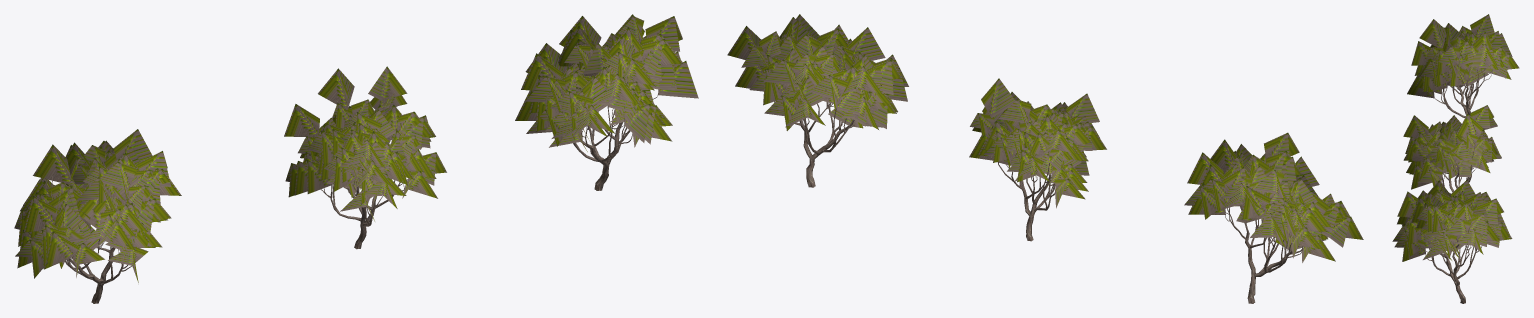
The model's file is Acacias.fbx.
3 views of the same model, side by side, from view 1: azimuth 30°, elevation 25°; view 2: azimuth 150°, elevation 25°; view 3: azimuth 270°, elevation 25° (orthographic). The views are drawn at different scales.
Parts seen in each view (by area): view 1: acacia_01, acacia_03, acacia_02; view 2: acacia_01, acacia_03, acacia_02; view 3: acacia_01, acacia_03, acacia_02.
Part boxes in pixels (x1,y1,x2,y2): acacia_01: (515, 14, 698, 190); acacia_03: (14, 129, 181, 303); acacia_02: (284, 66, 446, 249); acacia_01: (727, 14, 908, 187); acacia_03: (1184, 132, 1363, 303); acacia_02: (969, 78, 1106, 241); acacia_01: (1392, 180, 1512, 303); acacia_03: (1407, 14, 1519, 117); acacia_02: (1403, 105, 1501, 194).
Size of what is drawn, in the model's own units: 6669 by 1625 by 1581.
